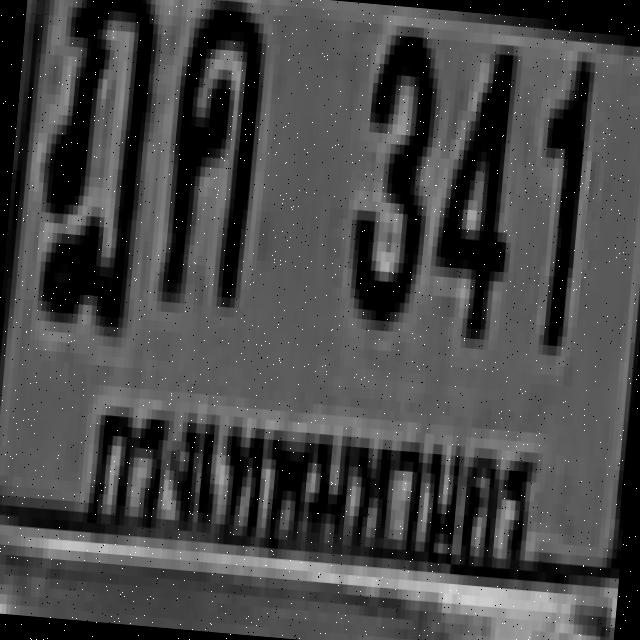1: (524, 48, 592, 346)
13KhorKhwai: (157, 0, 266, 298)
23DorChaDa: (33, 0, 159, 328)
3: (343, 13, 438, 323)
4: (424, 30, 520, 340)
Bangkok: (73, 373, 542, 594)
